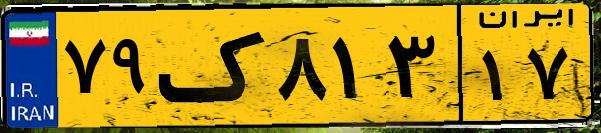1: (330, 28, 385, 110), (475, 38, 525, 113)
3: (385, 28, 445, 110)
7: (57, 26, 110, 100), (525, 38, 570, 115)
8: (270, 28, 330, 110)
9: (110, 28, 158, 98)
ک: (158, 12, 270, 120)
